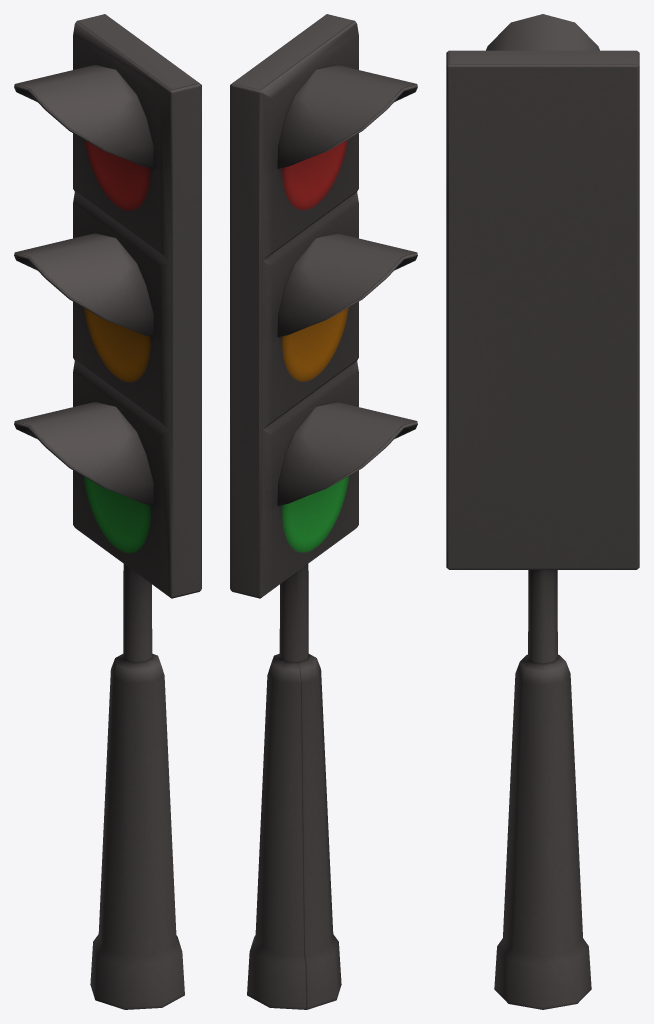
Rendered from TrafficLight.fbx.
3 renders of one model, left to right at view 1: azimuth 30°, elevation 25°; view 2: azimuth 150°, elevation 25°; view 3: azimuth 270°, elevation 25°, orthographic.
Visible parts, largest first — view 1: TrafficLight; view 2: TrafficLight; view 3: TrafficLight.
Boxes of the visible parts, left/top/right/bottom form: TrafficLight: left=14, top=14, right=201, bottom=1009; TrafficLight: left=230, top=14, right=417, bottom=1009; TrafficLight: left=446, top=14, right=639, bottom=1009.
Bounding box in the file's own units: 1.39 × 8.18 × 1.54.
